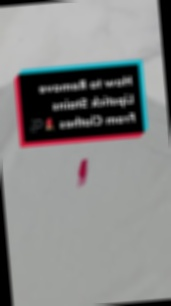lipstick: (71, 151, 94, 188)
